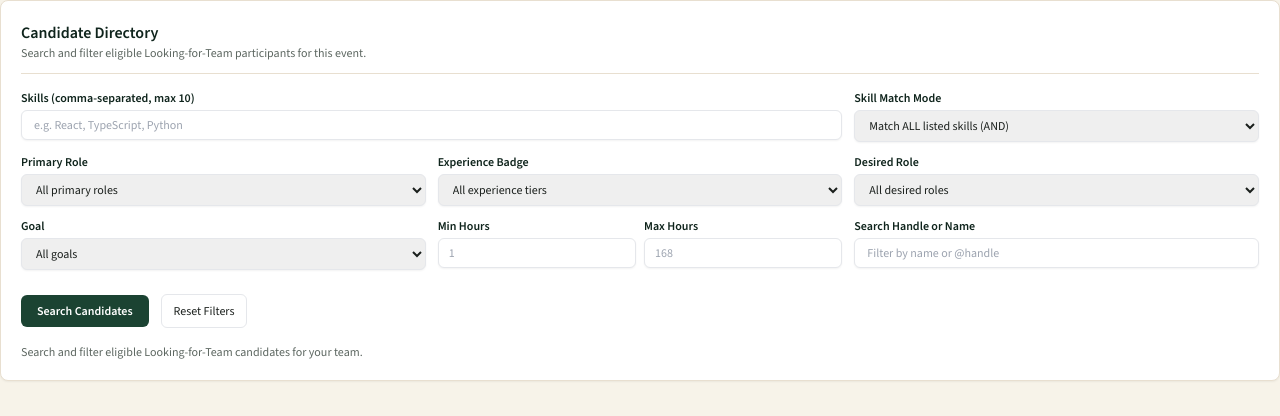
Test: CandidateDirectoryPanel (US-014-T4 / #139) › validates filter draft client-side and shows inline field error on minHours > maxHours (NR-010)
The width and height of the screenshot is (1280, 416).
Type "40" into the number field with test id "directory-min-hours".
click(537, 253); type("40")  # box [438, 238, 636, 268]
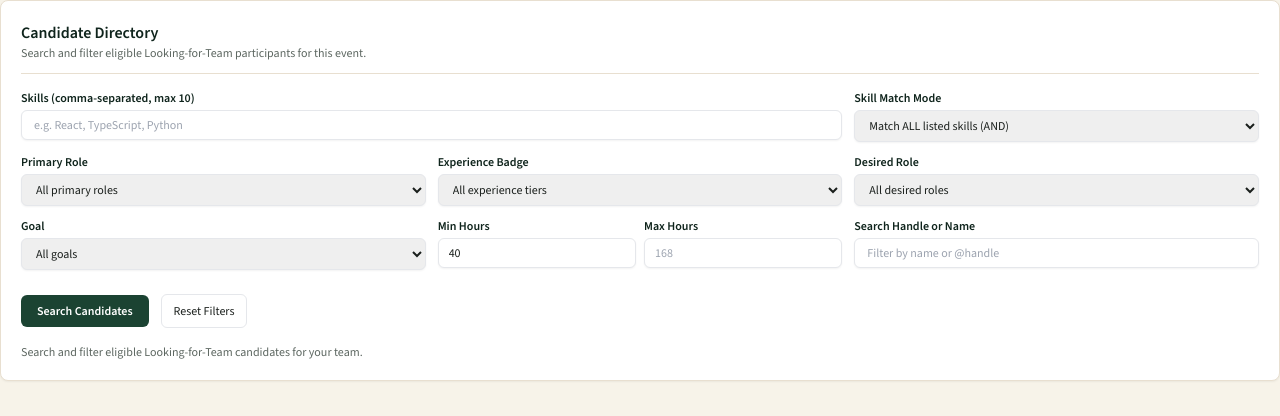
Type "20" into the number field with test id "directory-max-hours".
click(743, 253); type("20")  # box [644, 238, 842, 268]
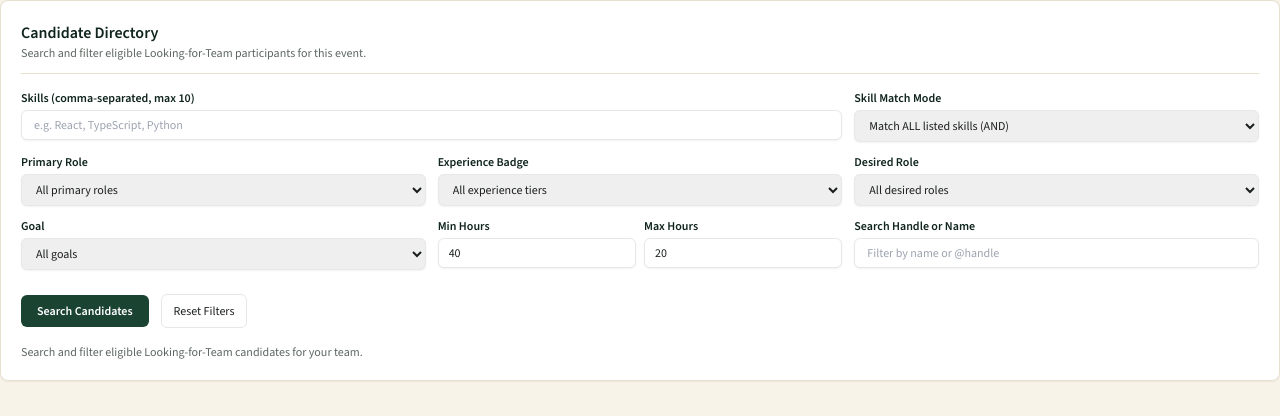
Click the button with test id "directory-search-submit".
click(85, 311)  # box [21, 295, 149, 327]
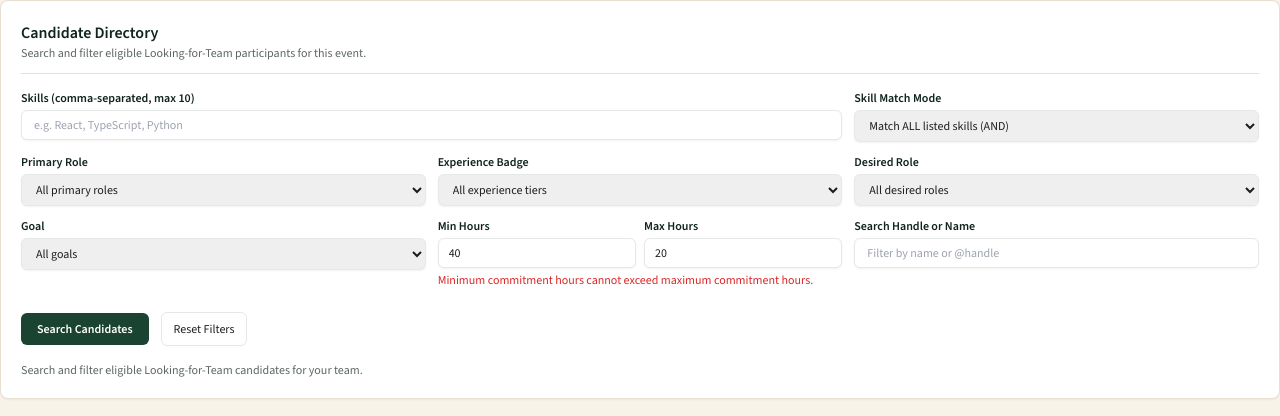
Expected: the message with test id "hours-error" shows "Minimum commitment hours cannot exceed maximum", [438, 272, 813, 288]
